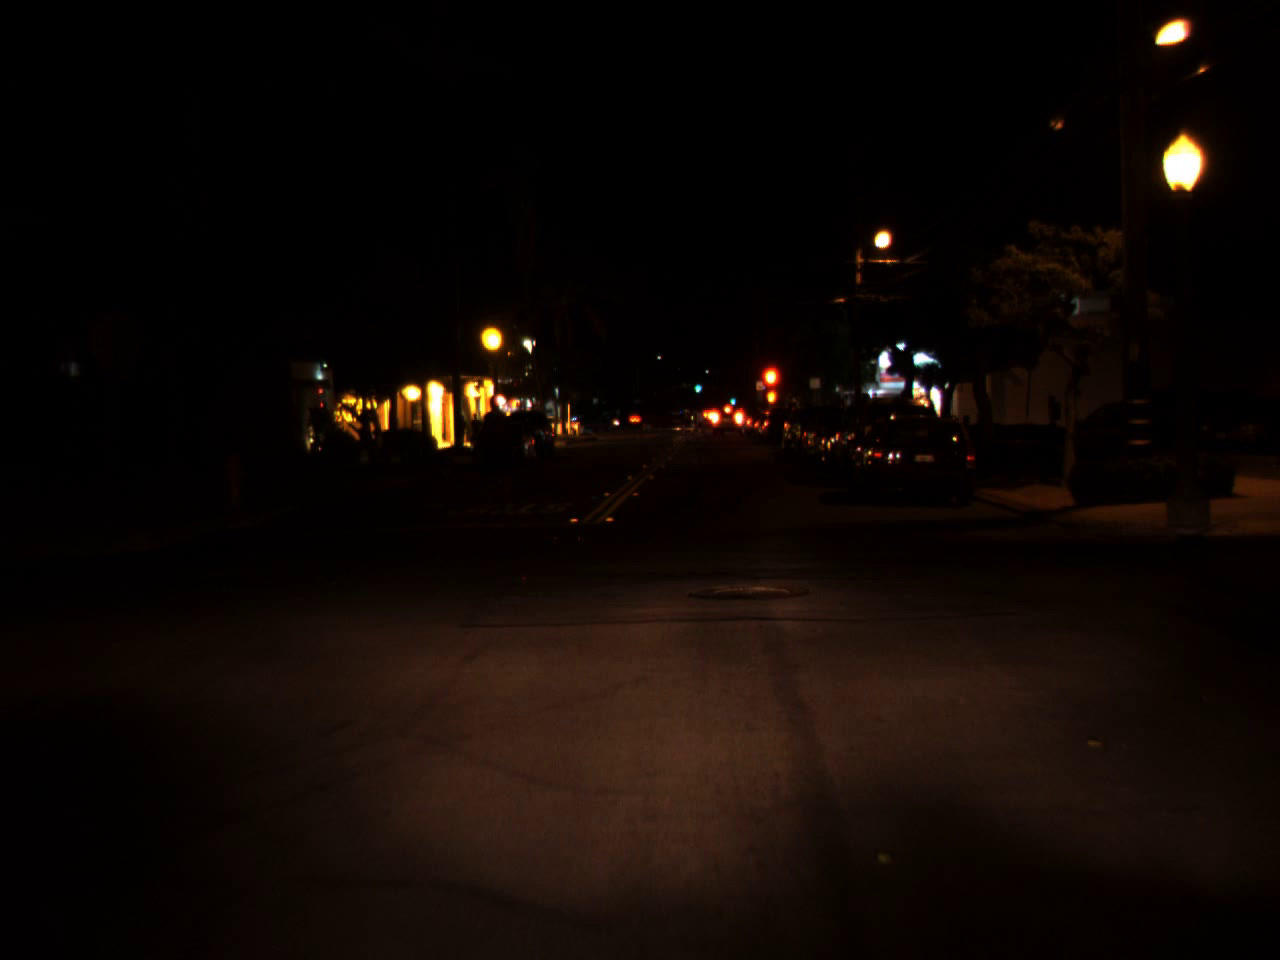go: (727, 391, 737, 406), (693, 378, 702, 393)
stop: (759, 363, 783, 411)
